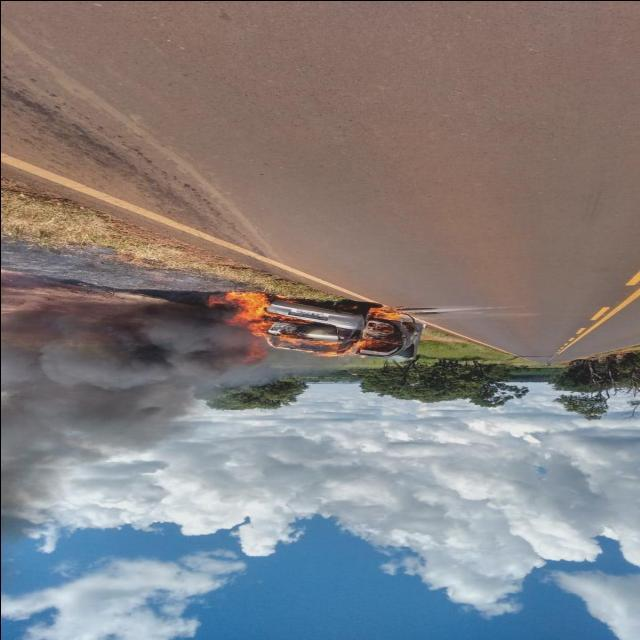Fire: (215, 290, 281, 336), (282, 336, 390, 360), (369, 306, 409, 322)
